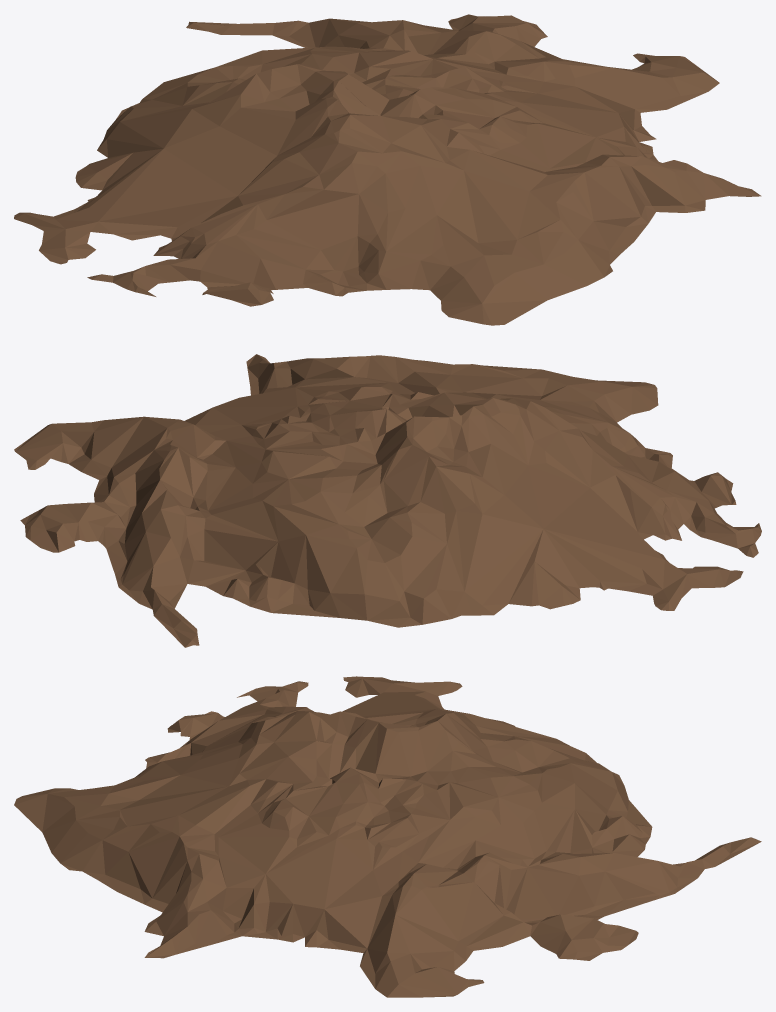
The model's file is Terrain_Mountain_003.fbx.
3 views of the same model, one above another, from view 1: azimuth 30°, elevation 25°; view 2: azimuth 150°, elevation 25°; view 3: azimuth 270°, elevation 25° (orthographic). The views are drawn at different scales.
Visible parts, largest first — view 1: Terrain_Mountain_003; view 2: Terrain_Mountain_003; view 3: Terrain_Mountain_003.
Part boxes in pixels (box(x1,y1,x2,y2)): Terrain_Mountain_003: box(14, 14, 761, 325); Terrain_Mountain_003: box(14, 354, 761, 647); Terrain_Mountain_003: box(14, 676, 761, 997).
Size of the model in its own units: 64.6 by 9.09 by 63.75.
